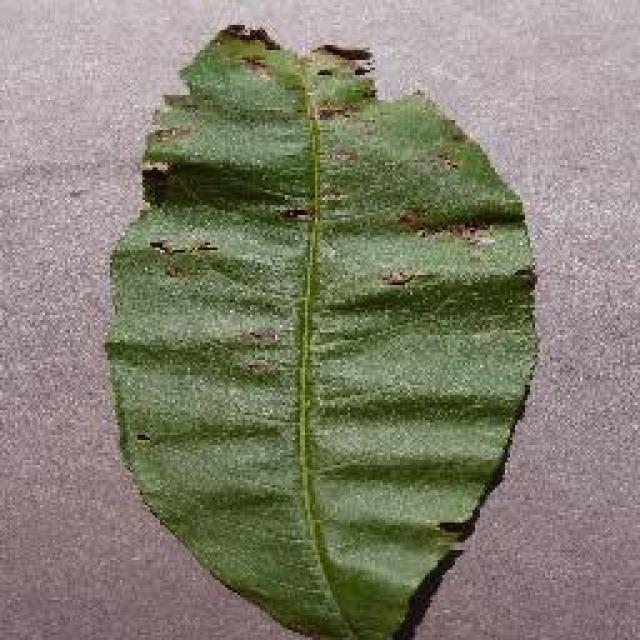Peach_Bacterial_Spot: (150, 63, 500, 357)
